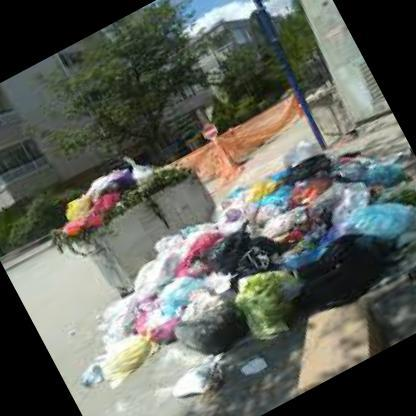Garbage: (136, 148, 370, 361), (168, 154, 405, 352), (56, 250, 240, 401), (243, 167, 415, 322), (41, 146, 162, 240), (160, 349, 238, 412)
